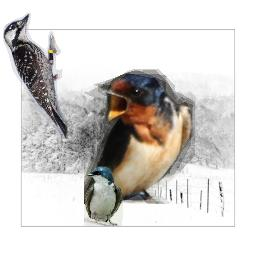Swallow: (84, 69, 195, 204), (84, 166, 123, 226)
Woodpecker: (3, 13, 68, 139)
